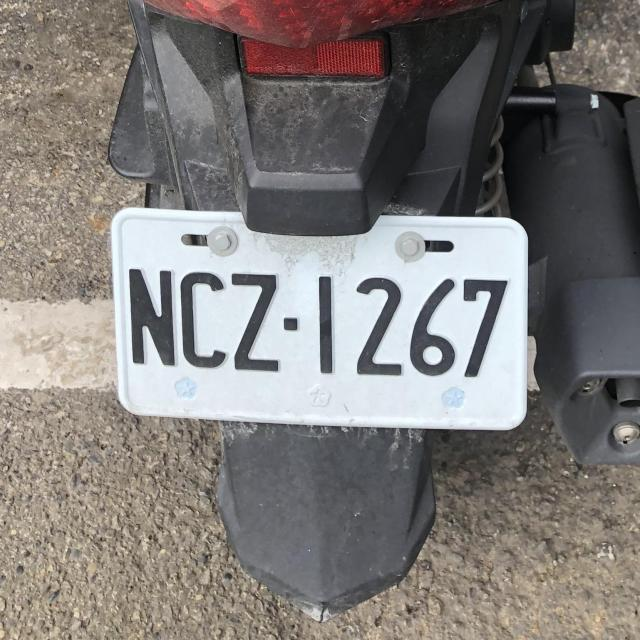W: (101, 210, 530, 425)
